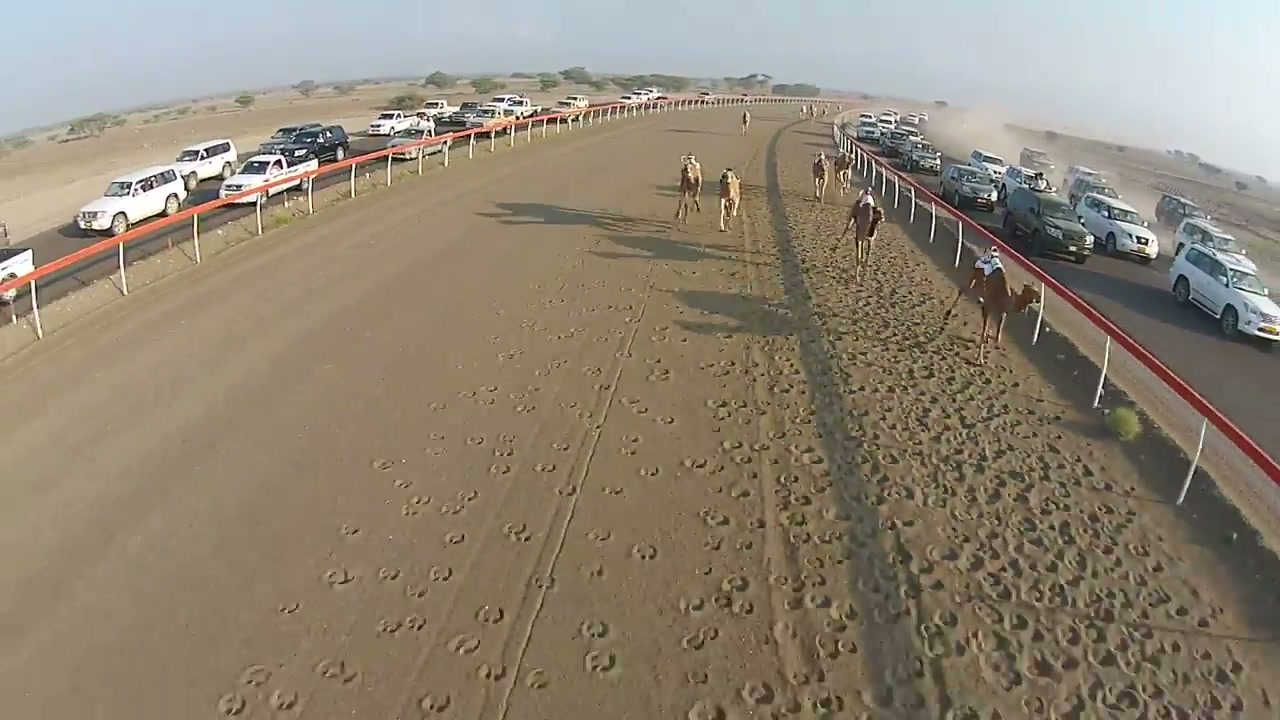animal_foot_print: (319, 124, 1268, 719), (776, 202, 1264, 716), (506, 303, 767, 713), (378, 391, 621, 714), (215, 665, 298, 716), (475, 662, 508, 683), (579, 619, 609, 639)
